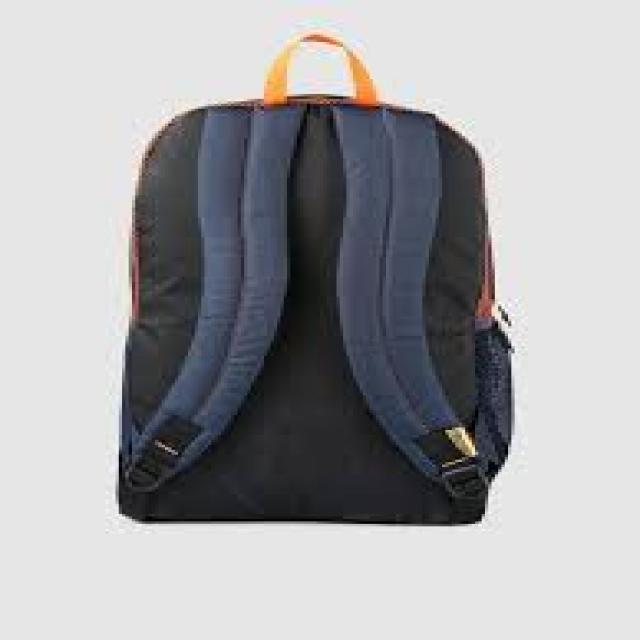backpack: (117, 28, 516, 525)
